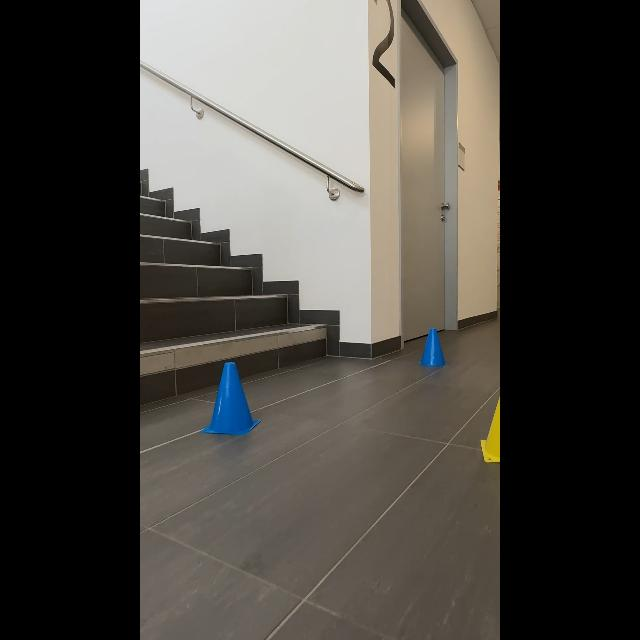blue_cone: (197, 356, 265, 446), (418, 324, 449, 376)
